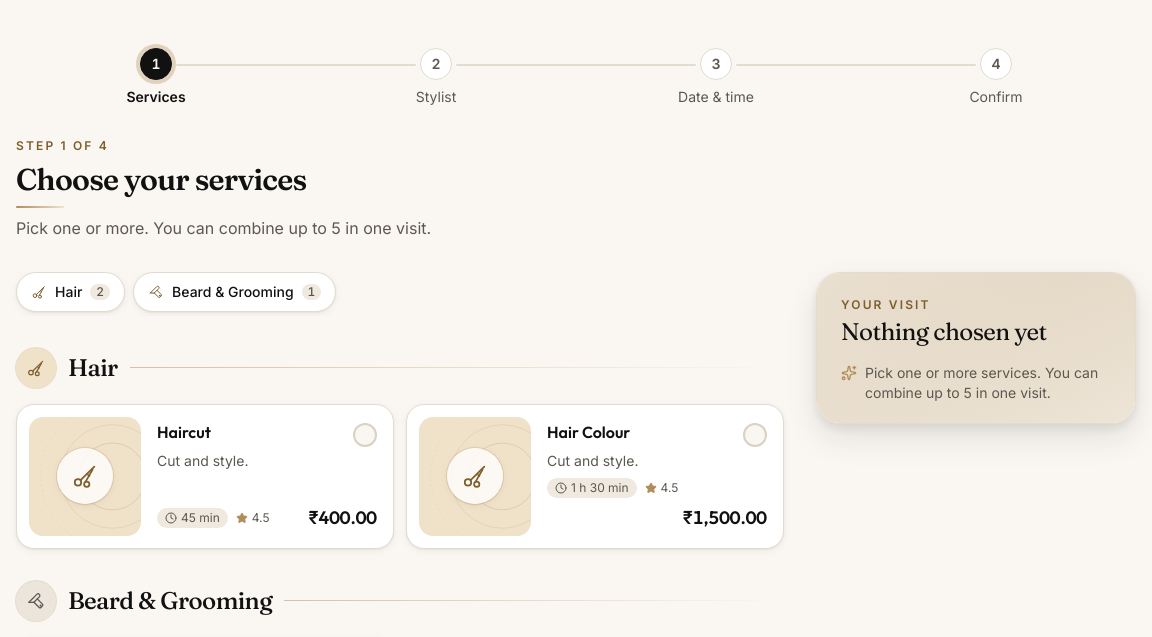
booking wizard look (05 §4.1) › services step: category chips, photo cards and a "Your visit" panel with remove buttons
This screenshot has width=1152, height=637.
Expected: the text "Pick one or more. You can combine up to 5 in one visit." is shown, top-left (16, 216), bottom-right (431, 240)
Expected: the text "Nothing chosen yet" is shown, top-left (841, 316), bottom-right (1047, 346)
Click the button "Haircut Cut and style. 45 min 4.5 ₹400.00" at (85, 476), box top-left (16, 404), bottom-right (394, 549)
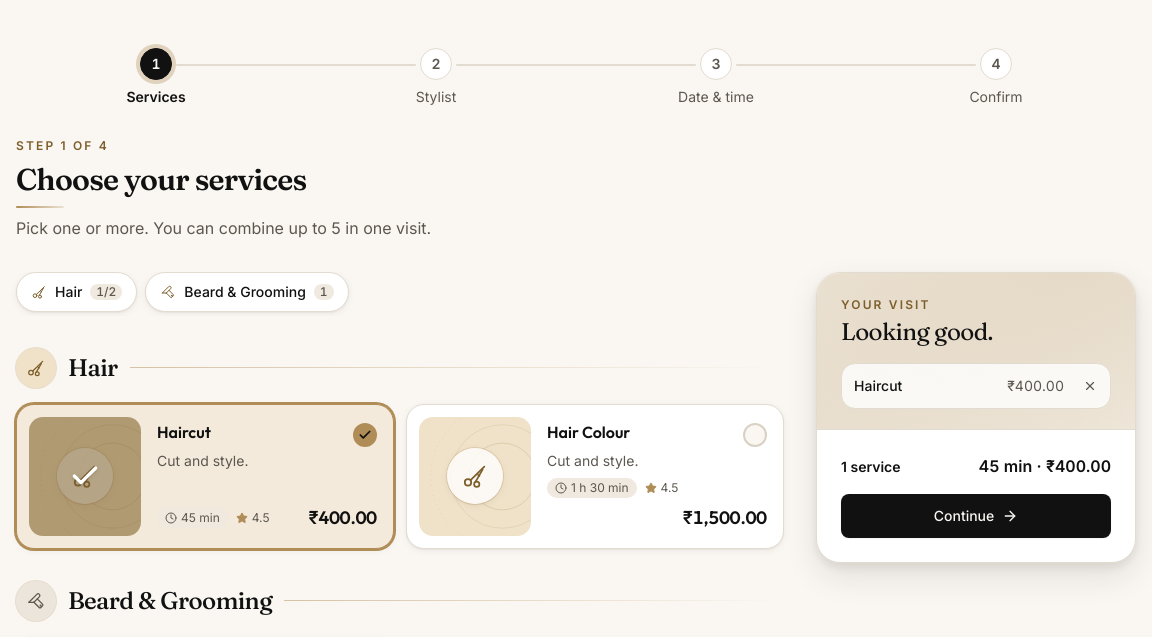
Now the text "Looking good." is shown, box top-left (841, 316), bottom-right (993, 346)
Now the link "Hair 1/2" is shown, box top-left (16, 272), bottom-right (137, 312)
Click the button named "Remove Haircut" at (1090, 386), box top-left (1076, 372), bottom-right (1104, 400)
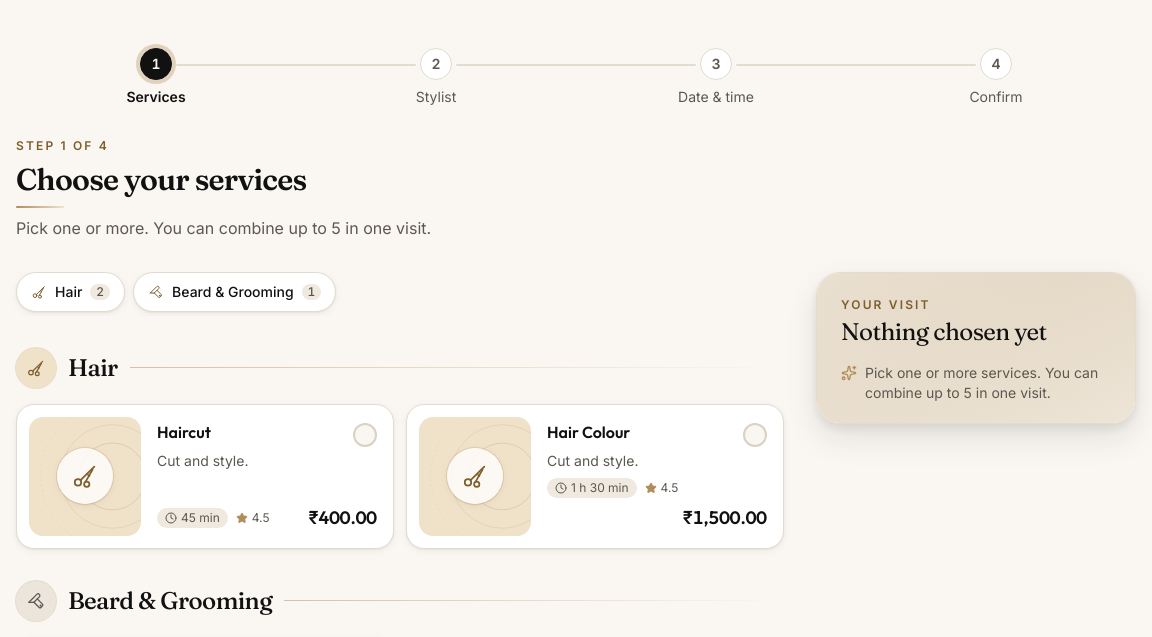
Now the text "Nothing chosen yet" is shown, box top-left (841, 316), bottom-right (1047, 346)
